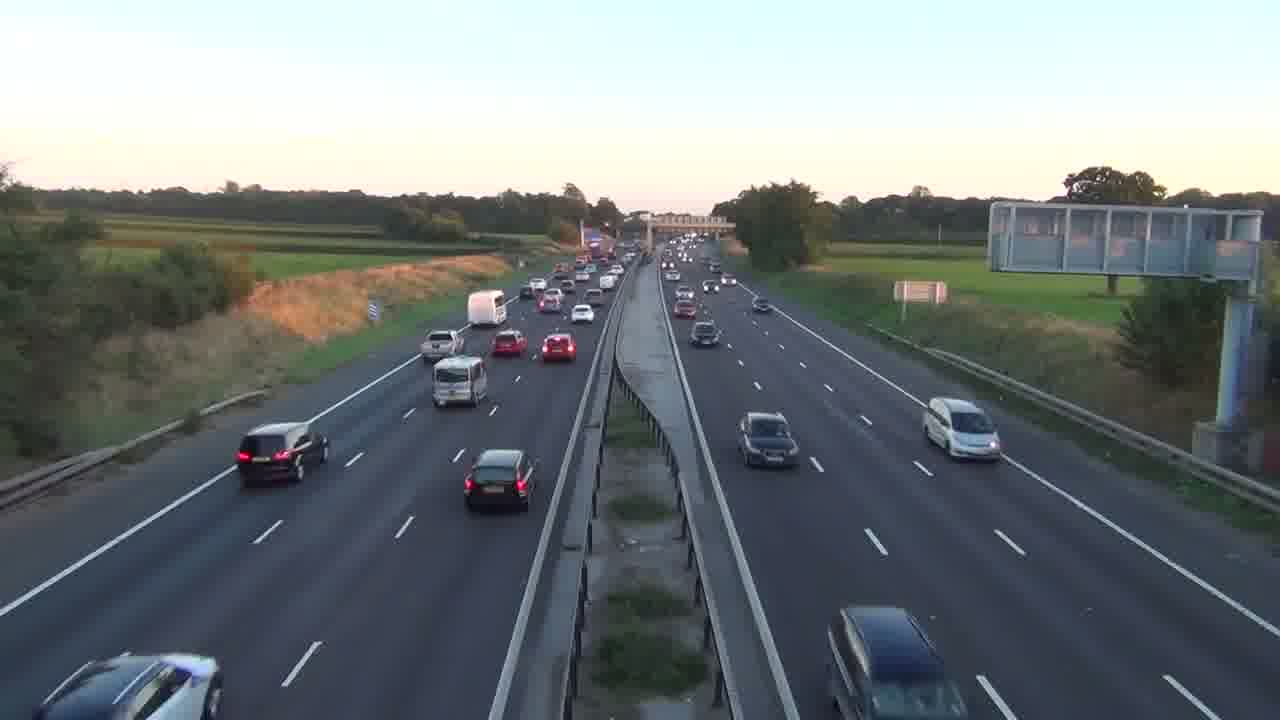car: (824, 603, 970, 718), (32, 651, 225, 718), (924, 396, 1003, 462), (463, 448, 539, 513), (736, 411, 800, 469), (431, 354, 488, 408), (538, 332, 577, 363), (490, 328, 528, 357), (689, 320, 723, 348), (570, 303, 594, 324)
truck: (234, 421, 329, 488), (466, 290, 508, 327)
